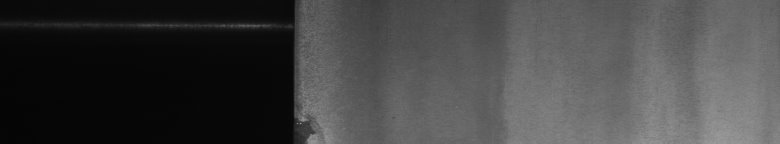hb: (304, 97, 328, 136)
